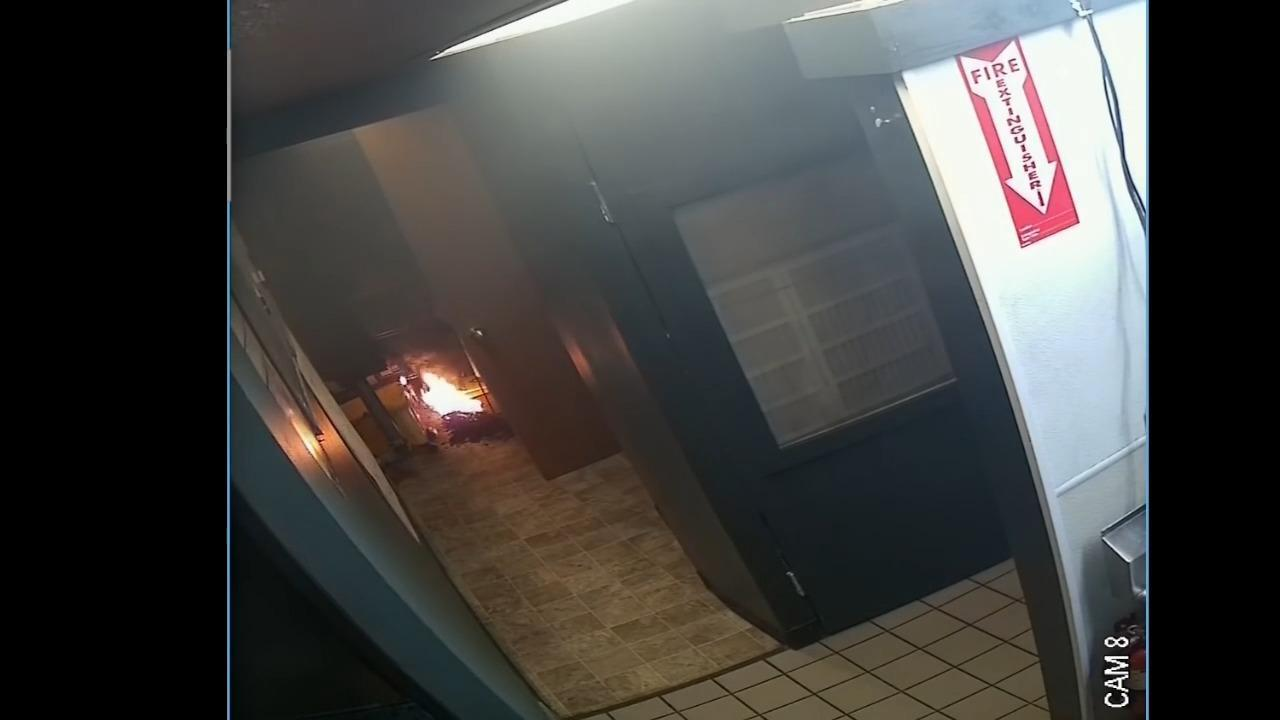fire: (420, 370, 483, 415)
